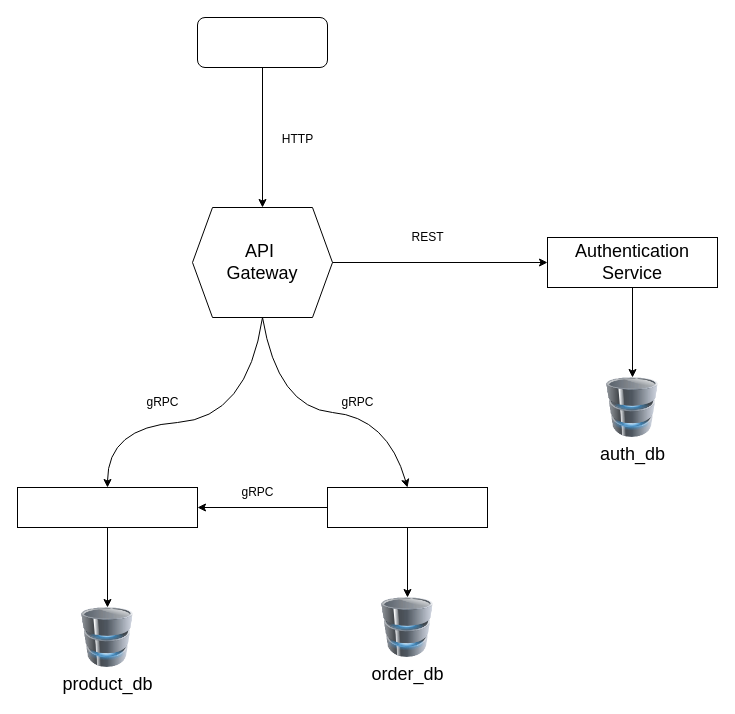
The diagram is 735 pixels wide and 714 high, and some of its shapes have lost their labels. The centre of each missing label's shape, as x and y in pixels:
CLIENT: [262,42]
Order Service: [407,507]
Product Service: [107,507]
